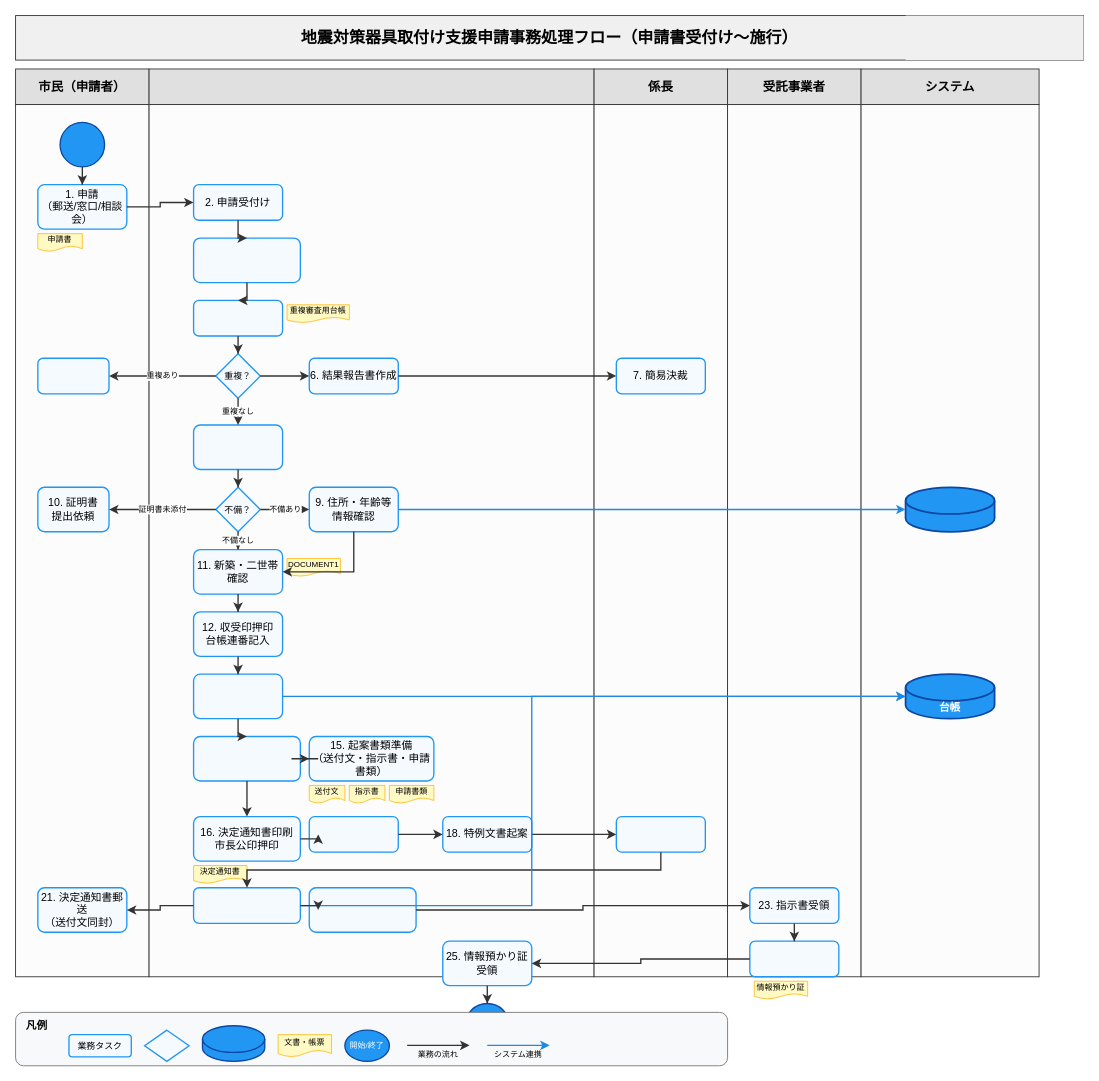
The diagram is 1099 pixels wide and 1081 high, and some of its shapes have lost their labels. The shapes that lost their labels are listed below. From the top down, each one's centre as x and y in pixels, then its label:
At point (994, 37): "令和5年4月1日時点".
At point (371, 86): "担当者".
At point (82, 144): "開始".
At point (247, 260): "3. 支援対象要件審査 （❶～❽）".
At point (238, 317): "4. 重複申請確認".
At point (73, 375): "5. 重複通知".
At point (238, 447): "8. 申請内容・ 添付証明書確認".
At point (949, 509): "SYSTEM2".
At point (238, 696): "13. 台帳入力 （申請情報）".
At point (247, 758): "14. 決定通知書作成 （特例管理帳票）".
At point (353, 834): "17. 封筒印刷".
At point (660, 834): "19. 決裁".
At point (247, 905): "20. 決定通知日入力".
At point (362, 910): "22. 指示書メール送付 （PDF・Excel）".
At point (794, 958): "24. 情報預かり証発行".
At point (166, 1045): "判断/分岐".
At point (233, 1043): "システムDB".
